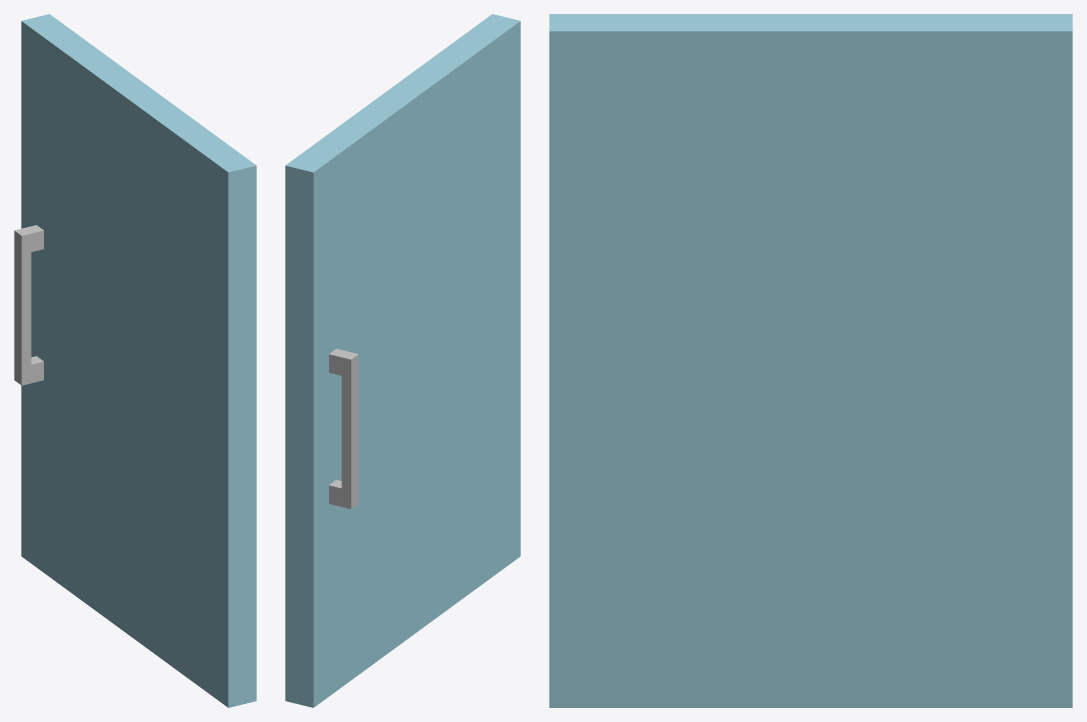
File: Sink_Counter 3.fbx
3 renders of one model, left to right at view 1: azimuth 30°, elevation 25°; view 2: azimuth 150°, elevation 25°; view 3: azimuth 270°, elevation 25°, orthographic. The views are drawn at different scales.
Visible parts, largest first — view 1: Right_Door - Sink_Counter; view 2: Right_Door - Sink_Counter; view 3: Right_Door - Sink_Counter.
Boxes of the visible parts, x1=… form: Right_Door - Sink_Counter: x1=14, y1=14, x2=256, y2=707; Right_Door - Sink_Counter: x1=285, y1=14, x2=520, y2=707; Right_Door - Sink_Counter: x1=549, y1=14, x2=1072, y2=707.
Bounding box in the file's own units: 6.94 × 70 × 49.08.
